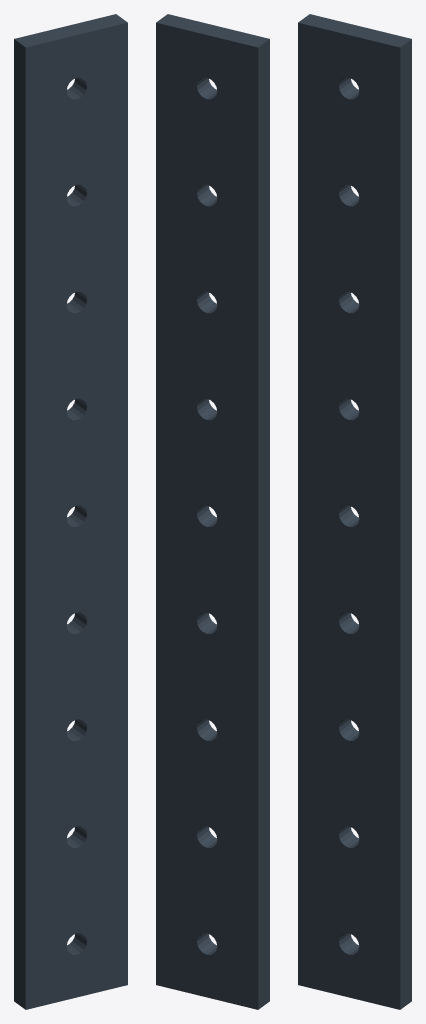
Rendered from kit_beam_180.obj.
The picture shows the model from 3 angles, left to right: view 1: azimuth 30°, elevation 25°; view 2: azimuth 150°, elevation 25°; view 3: azimuth 330°, elevation 25°; orthographic projection.
Visible parts, largest first — view 1: kit_beam_180; view 2: kit_beam_180; view 3: kit_beam_180.
Boxes of the visible parts, bbox=[...] form: kit_beam_180: bbox=[14, 14, 127, 1009]; kit_beam_180: bbox=[156, 14, 269, 1009]; kit_beam_180: bbox=[298, 14, 411, 1009].
Bounding box in the file's own units: 0.02 × 0.18 × 0.004.
